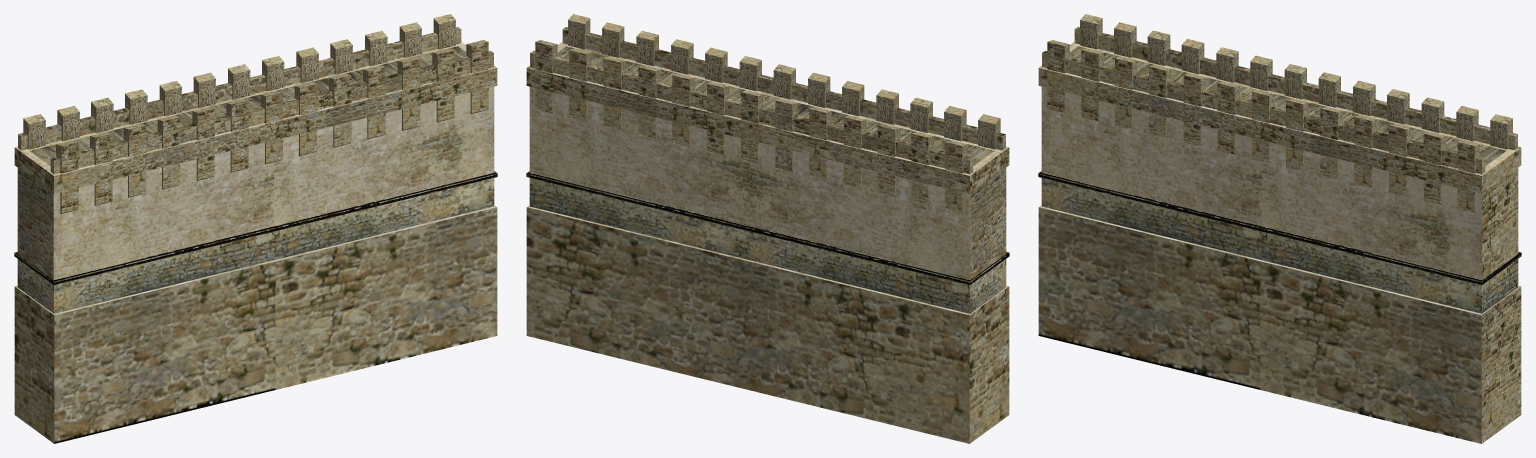
The model's file is wall.glb.
The picture shows the model from 3 angles, left to right: view 1: azimuth 30°, elevation 25°; view 2: azimuth 150°, elevation 25°; view 3: azimuth 330°, elevation 25°; orthographic projection.
Visible parts, largest first — view 1: wall_part0; view 2: wall_part0; view 3: wall_part0.
Part boxes in pixels (bbox=[...]): wall_part0: bbox=[14, 14, 497, 443]; wall_part0: bbox=[526, 14, 1009, 443]; wall_part0: bbox=[1038, 14, 1521, 443].
Size of the model in its own units: 2 by 1.27 by 0.3092.
1 material, 1 textured.
